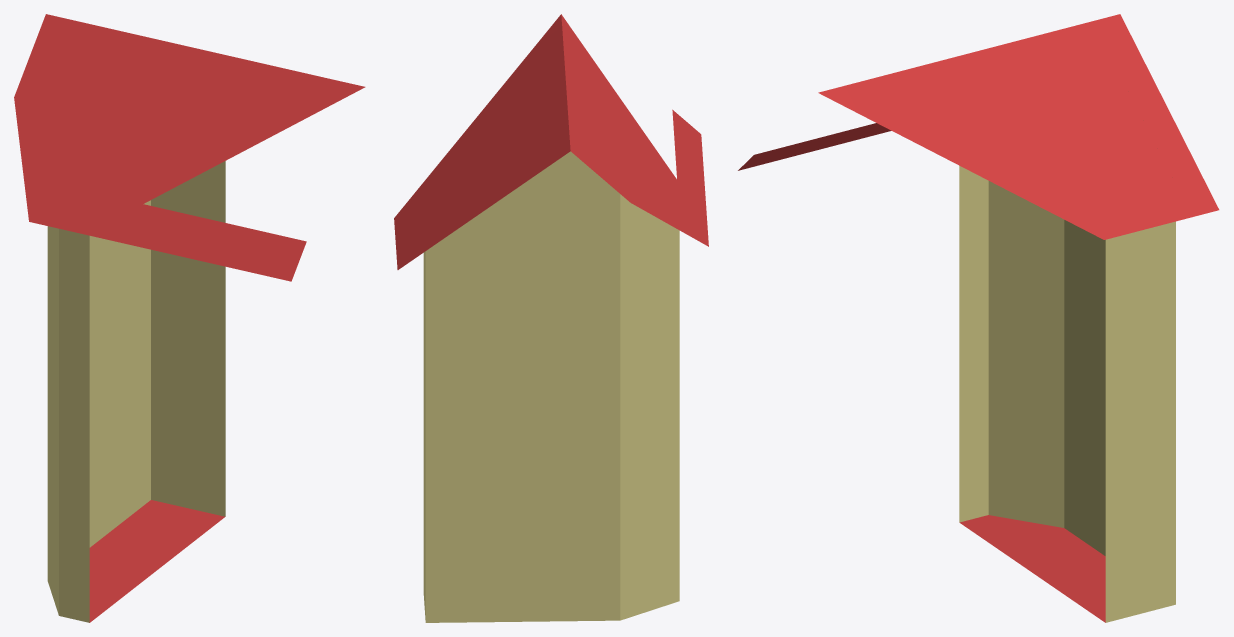
3 views of the same model, side by side, from view 1: azimuth 30°, elevation 25°; view 2: azimuth 150°, elevation 25°; view 3: azimuth 270°, elevation 25° (orthographic). The views are drawn at different scales.
Size of the model in its own units: 7.79 by 11.42 by 13.77.
